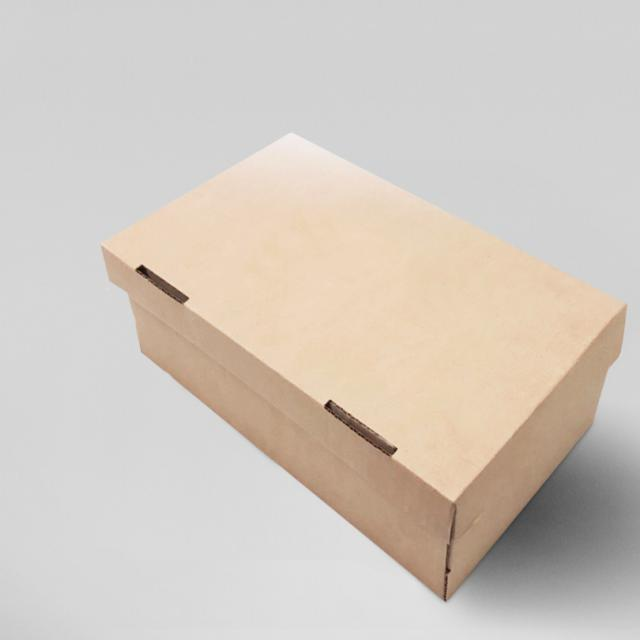box: (66, 112, 639, 614)
